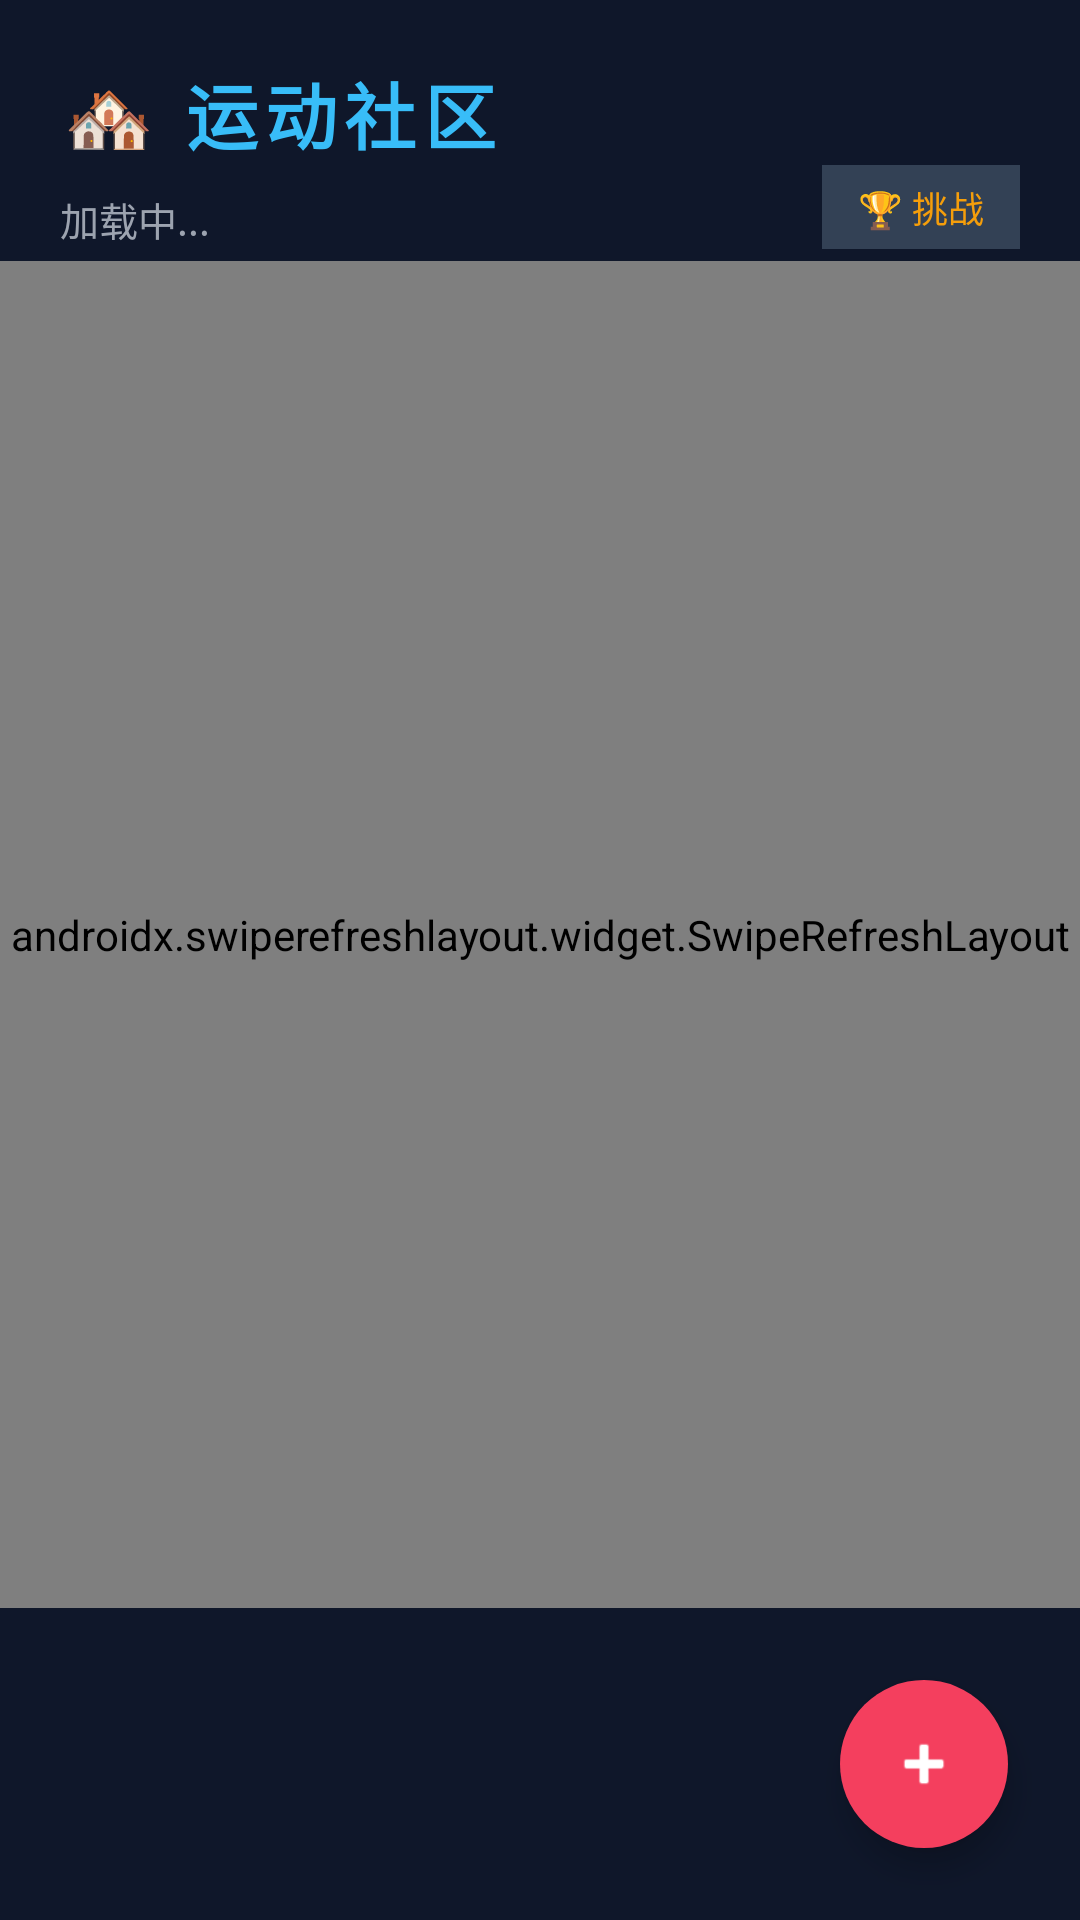

Where to tap for icons on this 1080px x 1920px app screen, as [x,y]:
发布动态: [924,1764]
